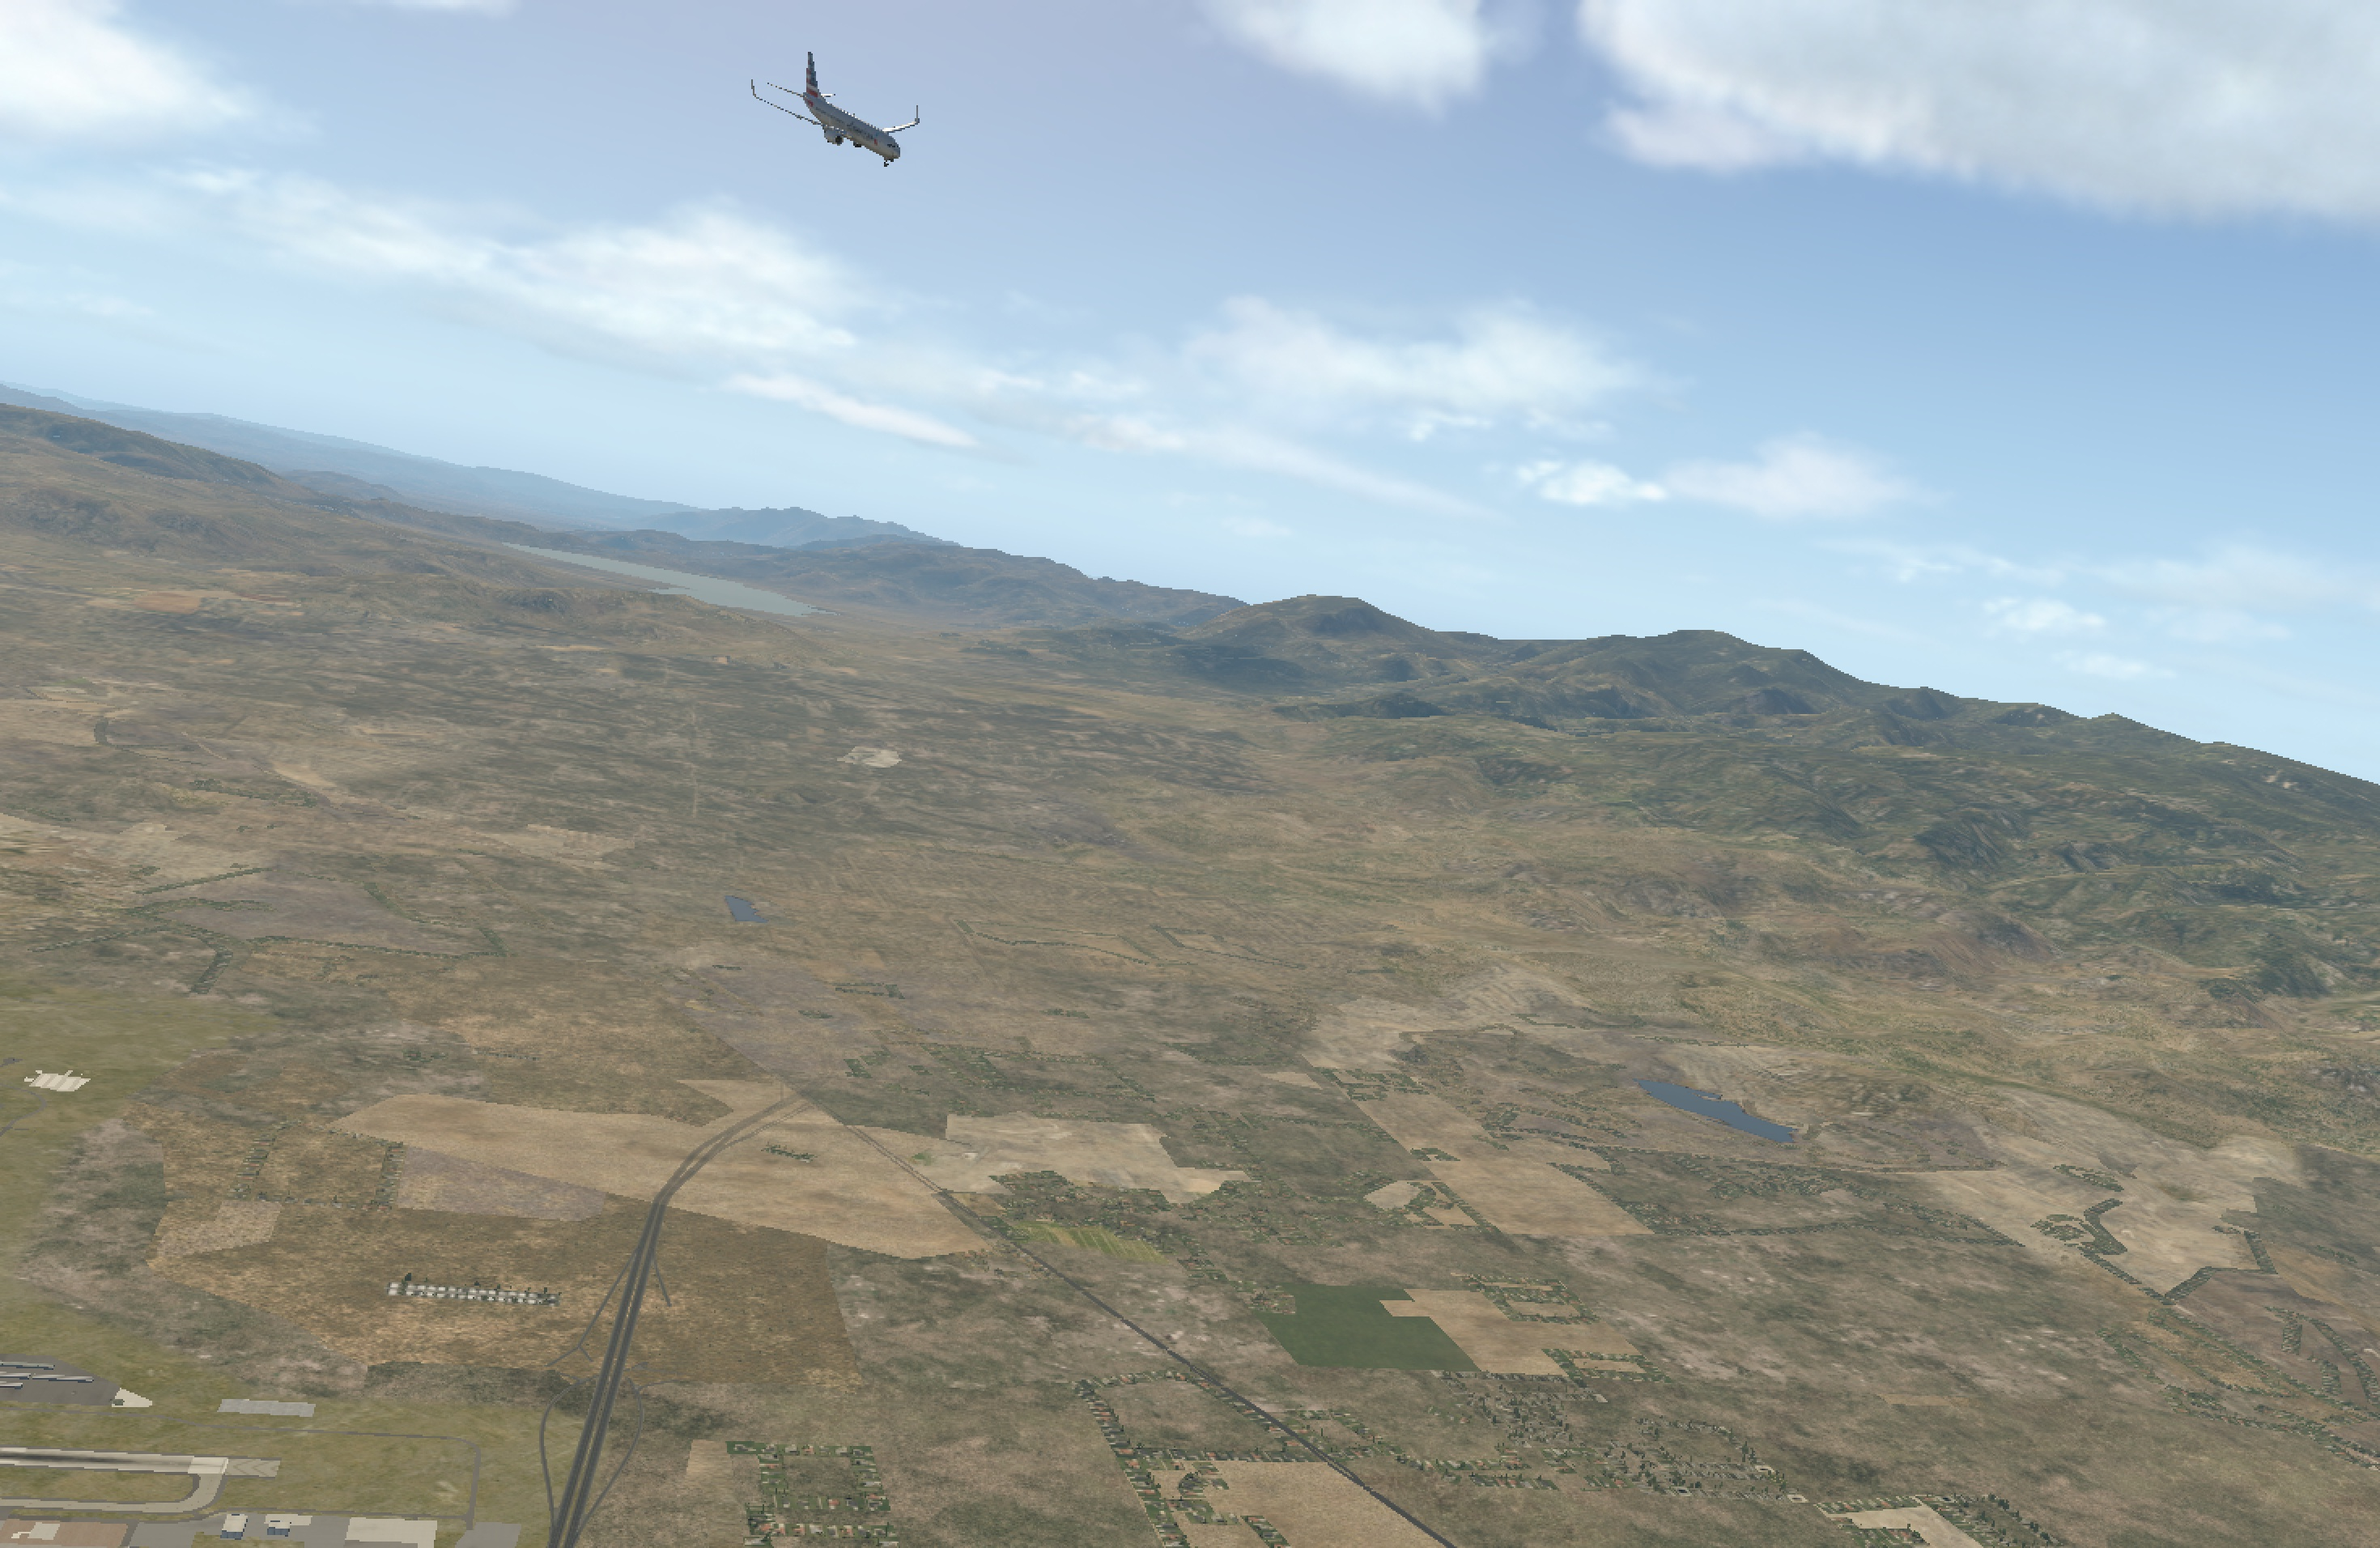aircraft: (749, 92, 952, 168)
